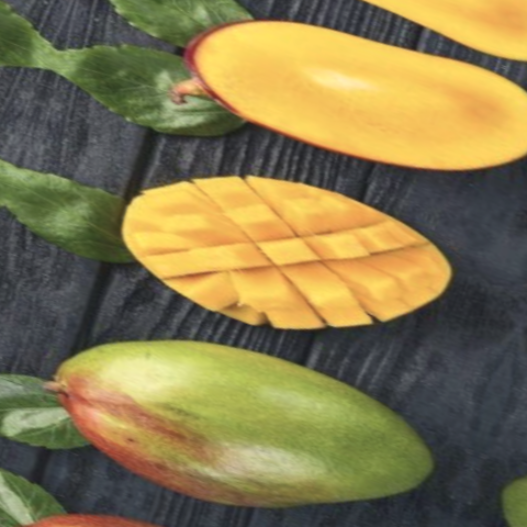mango: (99, 127, 521, 407), (10, 277, 470, 527), (144, 0, 527, 233)
